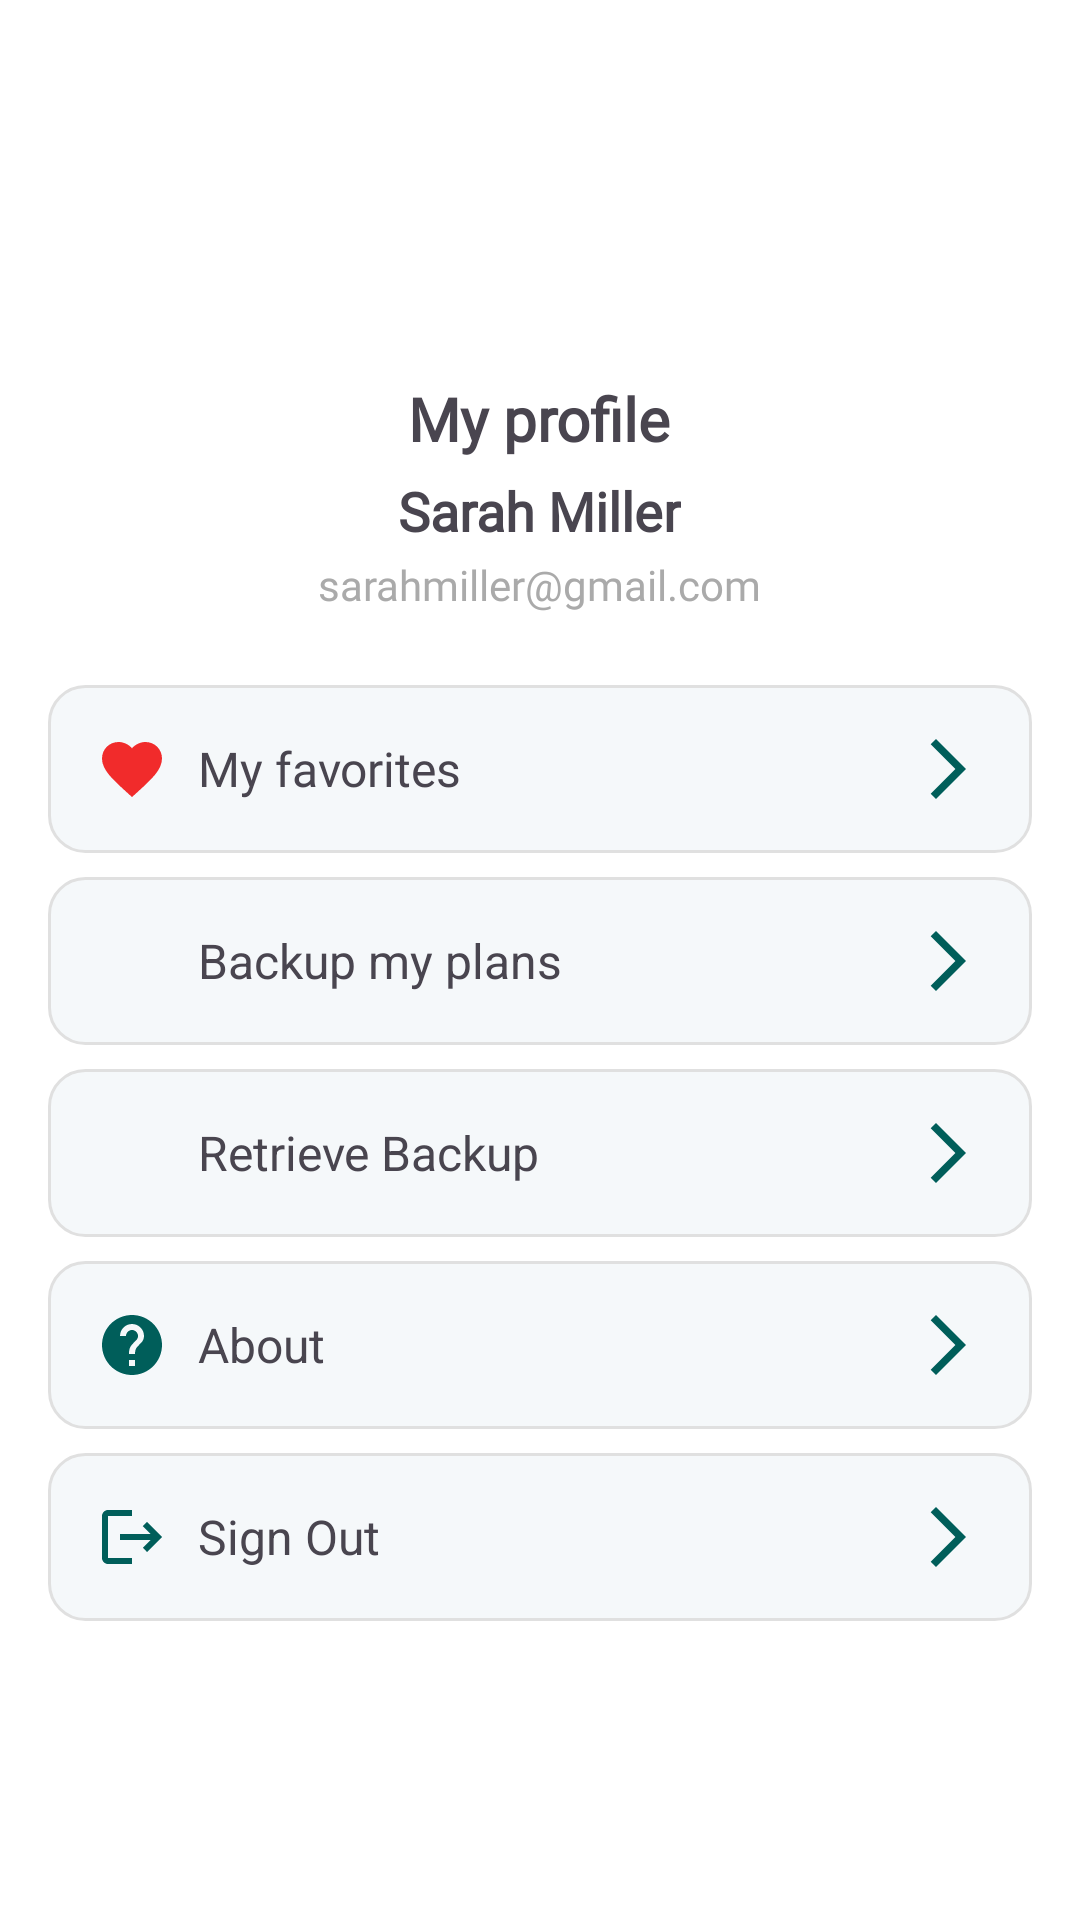

Named icons in this screenshot (1080px x 1920px) and their bounding boxes, {"x1": x1, "y1": y1, "x2": x2, "y2": y2}:
arrow forward: {"x1": 931, "y1": 739, "x2": 966, "y2": 799}, {"x1": 931, "y1": 931, "x2": 966, "y2": 991}, {"x1": 931, "y1": 1123, "x2": 966, "y2": 1183}, {"x1": 931, "y1": 1315, "x2": 966, "y2": 1375}, {"x1": 931, "y1": 1507, "x2": 966, "y2": 1567}
help: {"x1": 102, "y1": 1315, "x2": 162, "y2": 1375}
